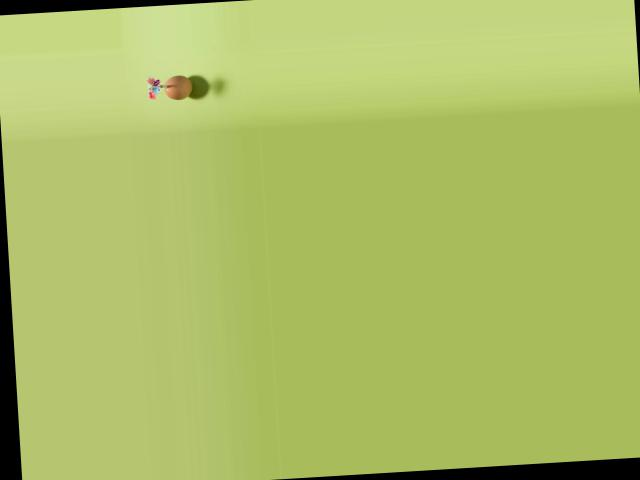egg: (163, 74, 193, 100)
